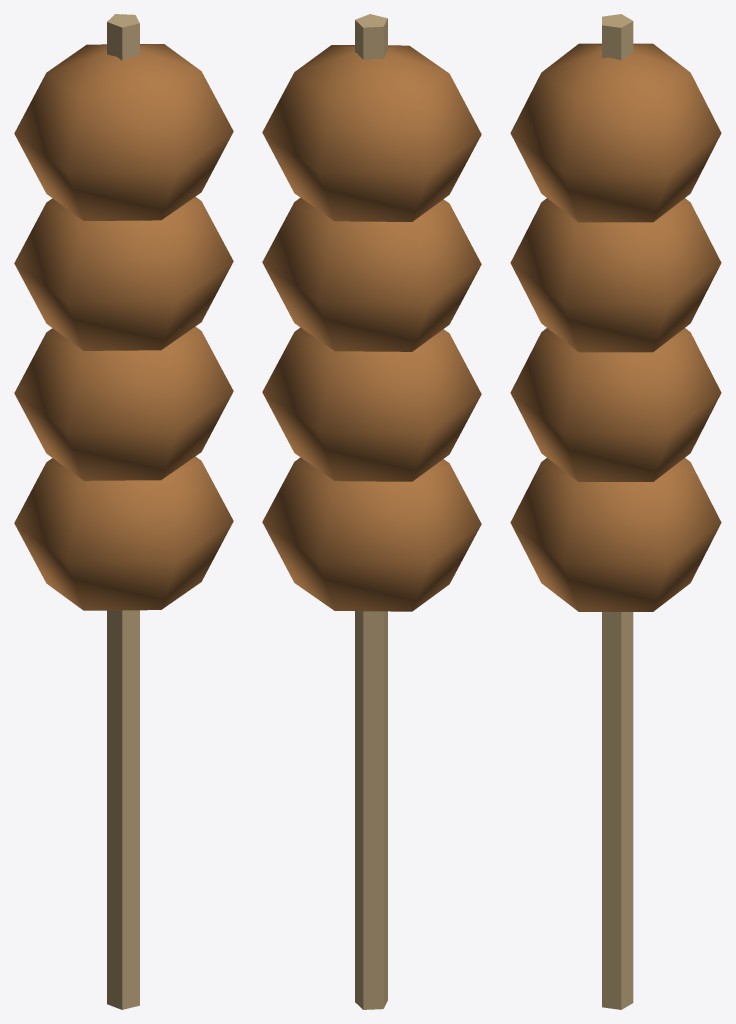
Rendered from item_kushiyaki.glb.
The picture shows the model from 3 angles, left to right: view 1: azimuth 30°, elevation 25°; view 2: azimuth 150°, elevation 25°; view 3: azimuth 270°, elevation 25°; orthographic projection.
Visible parts, largest first — view 1: item_kushiyaki; view 2: item_kushiyaki; view 3: item_kushiyaki.
Part boxes in pixels (left/top/right/bottom): item_kushiyaki: left=14, top=14, right=233, bottom=1009; item_kushiyaki: left=262, top=14, right=481, bottom=1009; item_kushiyaki: left=510, top=14, right=721, bottom=1009.
Bounding box in the file's own units: 0.0554 × 0.312 × 0.0608.
